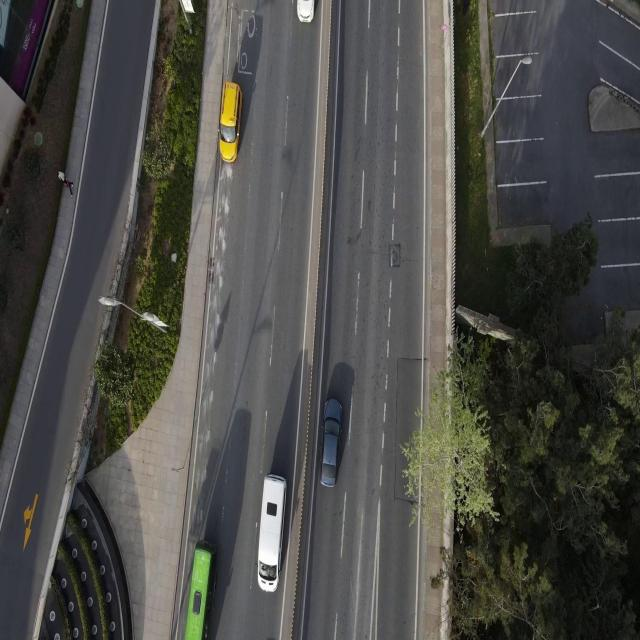p3rson: (63, 177, 75, 198), (56, 169, 68, 185)
